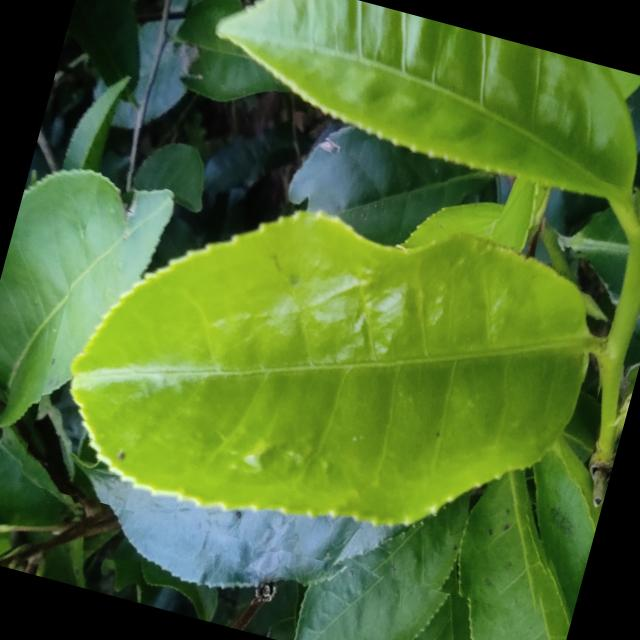Category C(4-7 days): (18, 54, 640, 621)
